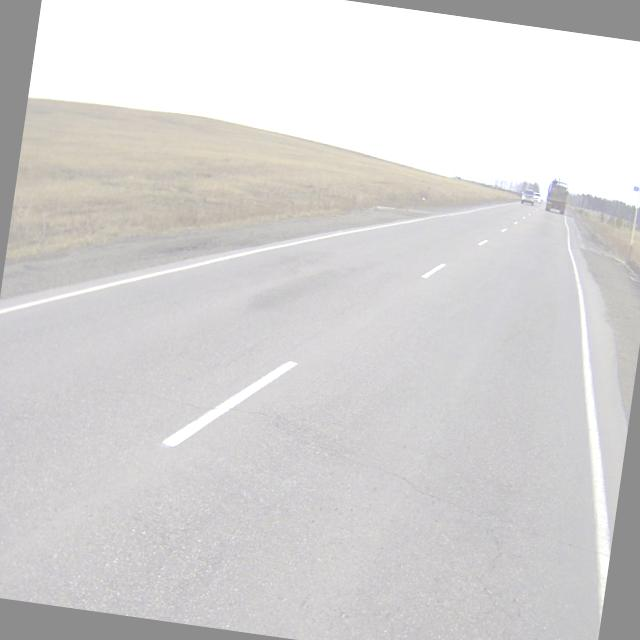road: (0, 200, 627, 640)
